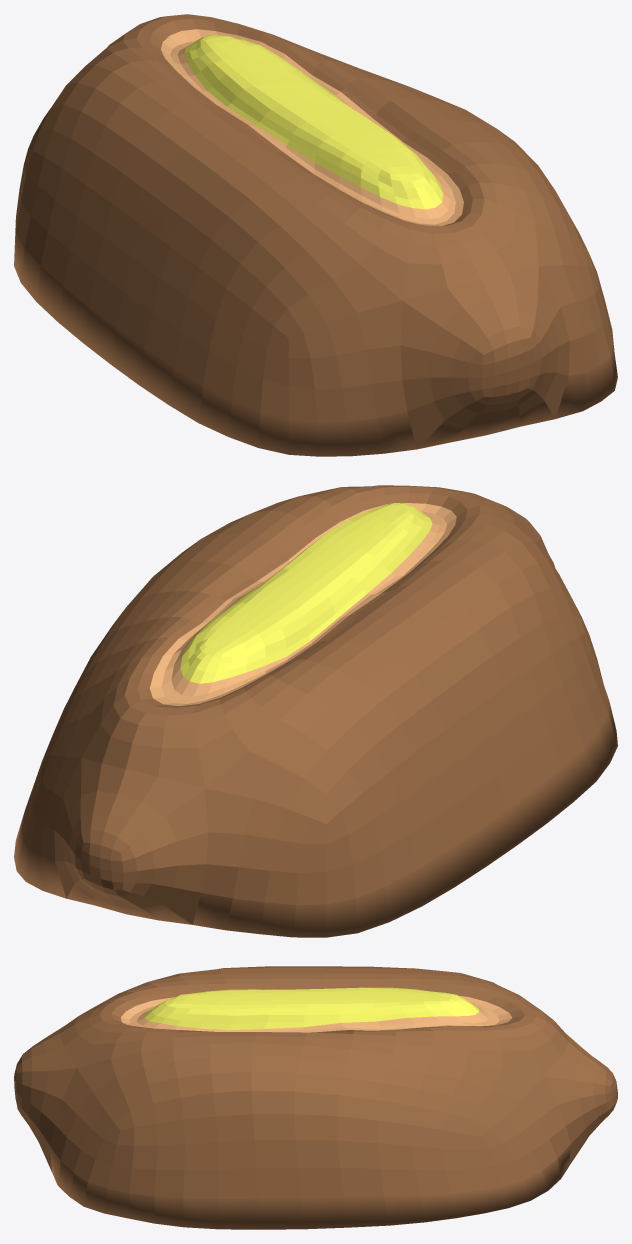
The model's file is GlowBlister.fbx.
The picture shows the model from 3 angles, top to bottom: view 1: azimuth 30°, elevation 25°; view 2: azimuth 150°, elevation 25°; view 3: azimuth 270°, elevation 25°; orthographic projection. The views are drawn at different scales.
Parts seen in each view (by area): view 1: GlowBlister - VoidBeat; view 2: GlowBlister - VoidBeat; view 3: GlowBlister - VoidBeat.
Boxes of the visible parts, x1=… form: GlowBlister - VoidBeat: x1=14, y1=14, x2=617, y2=456; GlowBlister - VoidBeat: x1=14, y1=485, x2=617, y2=937; GlowBlister - VoidBeat: x1=14, y1=966, x2=617, y2=1229.
Bounding box in the file's own units: 24.88 × 12.23 × 42.54.
